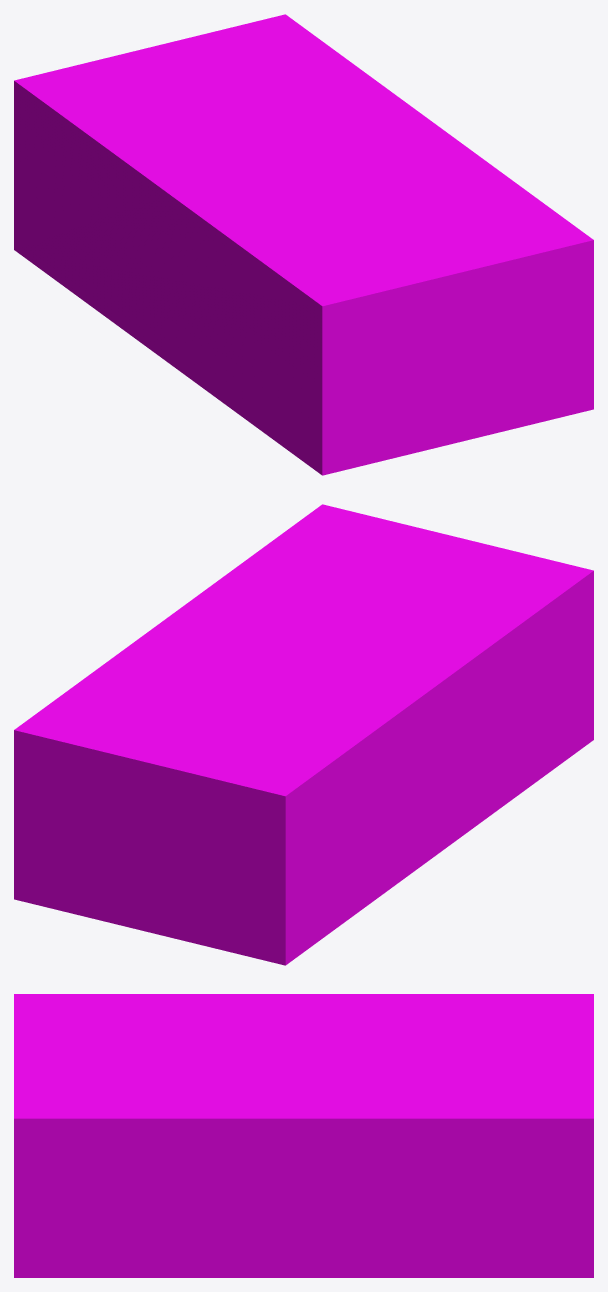
File: platform_14x28.glb
The picture shows the model from 3 angles, top to bottom: view 1: azimuth 30°, elevation 25°; view 2: azimuth 150°, elevation 25°; view 3: azimuth 270°, elevation 25°; orthographic projection. The views are drawn at different scales.
Parts seen in each view (by area): view 1: Cube_015-mesh; view 2: Cube_015-mesh; view 3: Cube_015-mesh.
Part boxes in pixels (box(x1,y1,x2,y2)): Cube_015-mesh: box(14, 14, 593, 475); Cube_015-mesh: box(14, 504, 593, 965); Cube_015-mesh: box(14, 994, 593, 1277).
Bounding box in the file's own units: 14.42 × 8.59 × 28.37.
